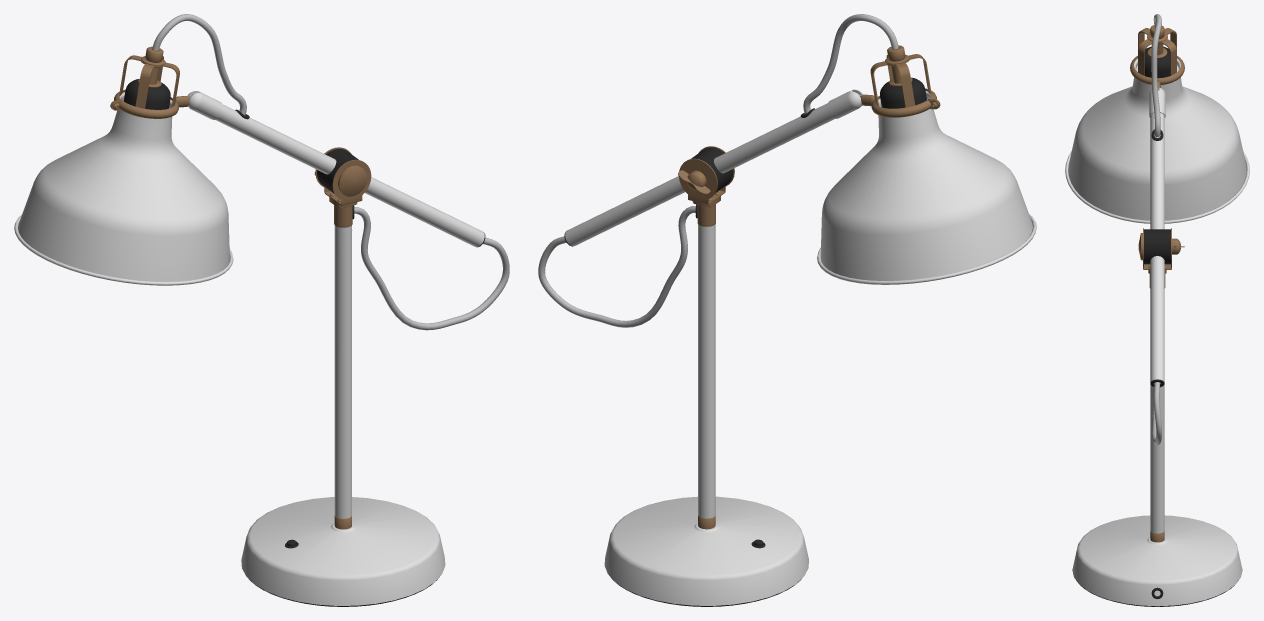
File: SM_PROP_lamp_merged_100.glb
3 renders of one model, left to right at view 1: azimuth 30°, elevation 25°; view 2: azimuth 150°, elevation 25°; view 3: azimuth 270°, elevation 25°, orthographic. The views are drawn at different scales.
Visible parts, largest first — view 1: SM_PROP_lamp_merged_100; view 2: SM_PROP_lamp_merged_100; view 3: SM_PROP_lamp_merged_100.
Boxes of the visible parts, x1,y1,x2,y2 form: SM_PROP_lamp_merged_100: [14, 14, 509, 606]; SM_PROP_lamp_merged_100: [538, 14, 1036, 606]; SM_PROP_lamp_merged_100: [1065, 14, 1249, 606].
Bounding box in the file's own units: 47.52 × 55.55 × 18.98.
